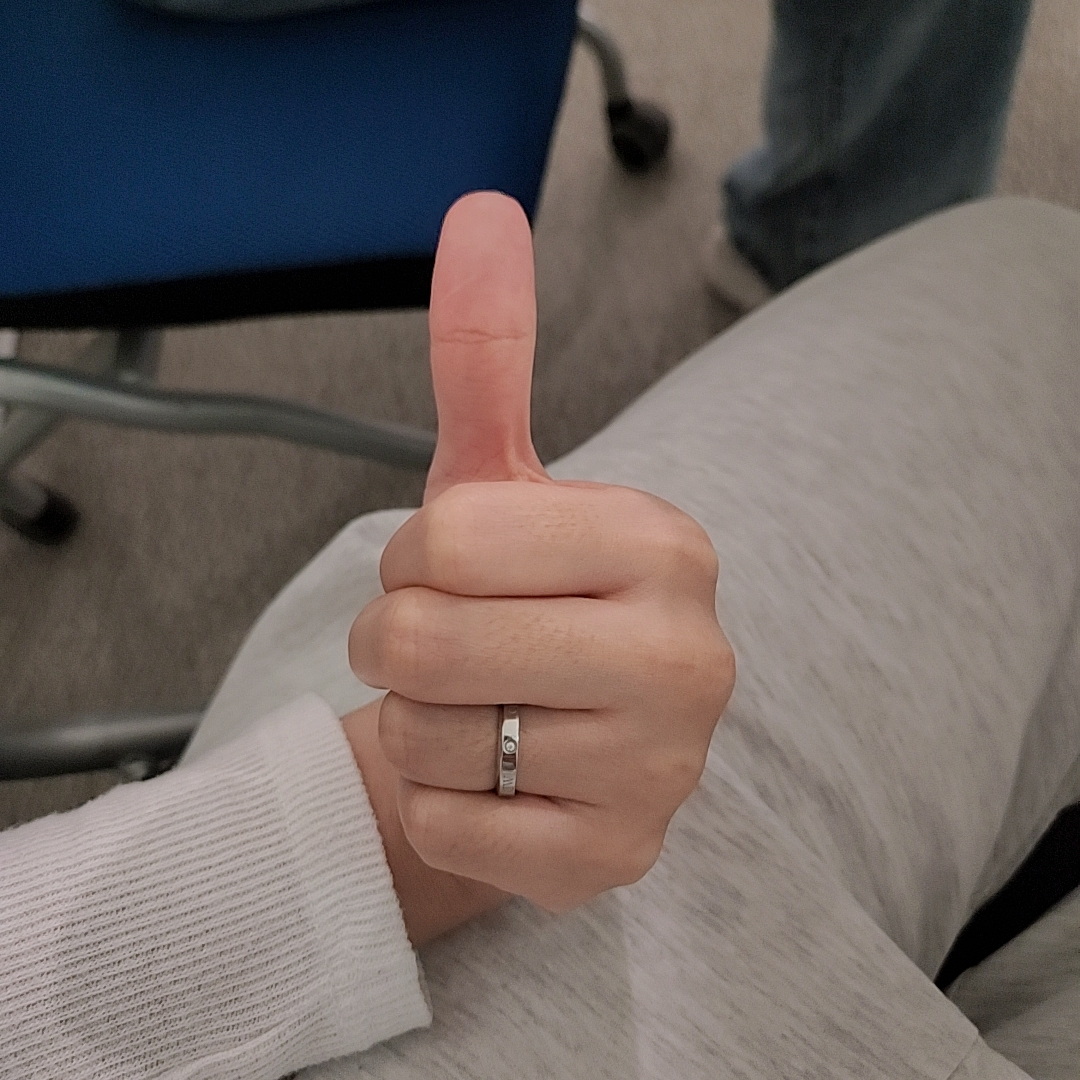best: (356, 191, 736, 915)
